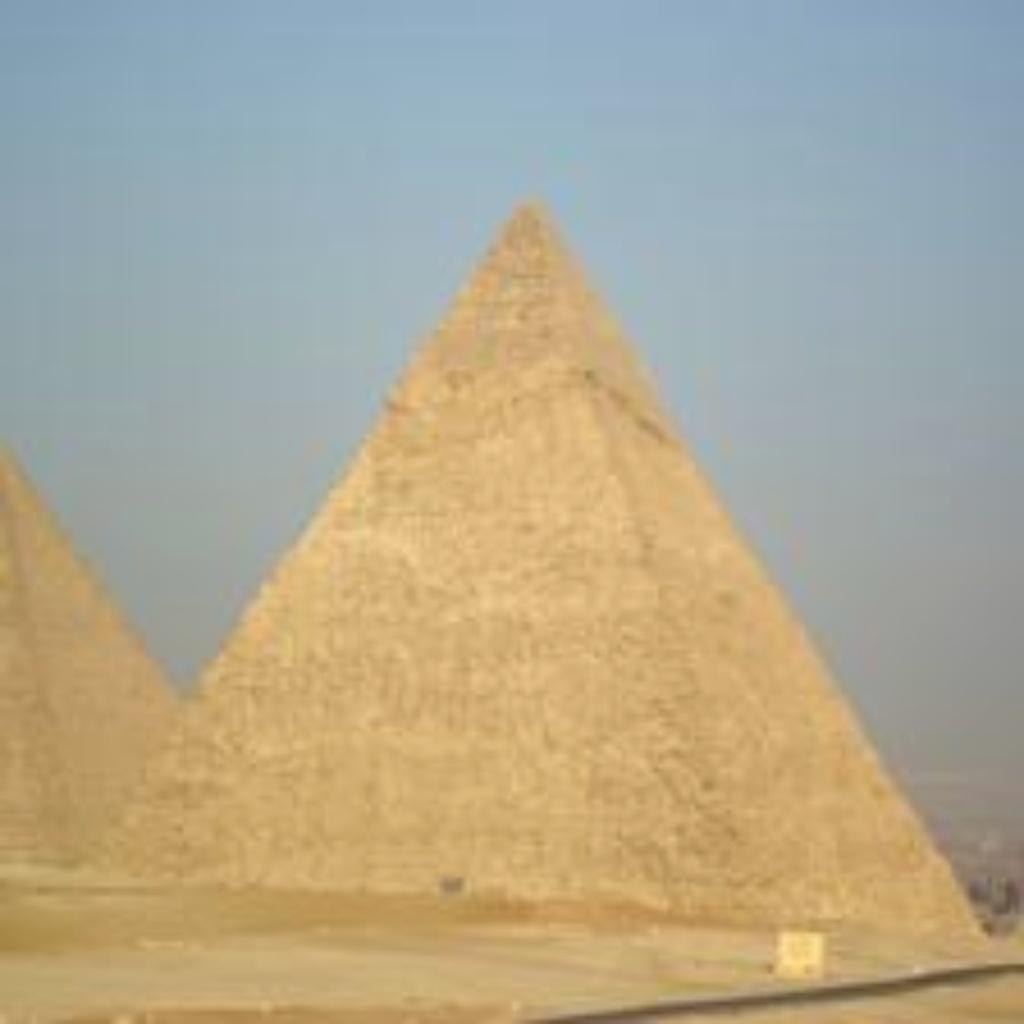Great Pyramids of Giza: (0, 178, 1006, 992)
